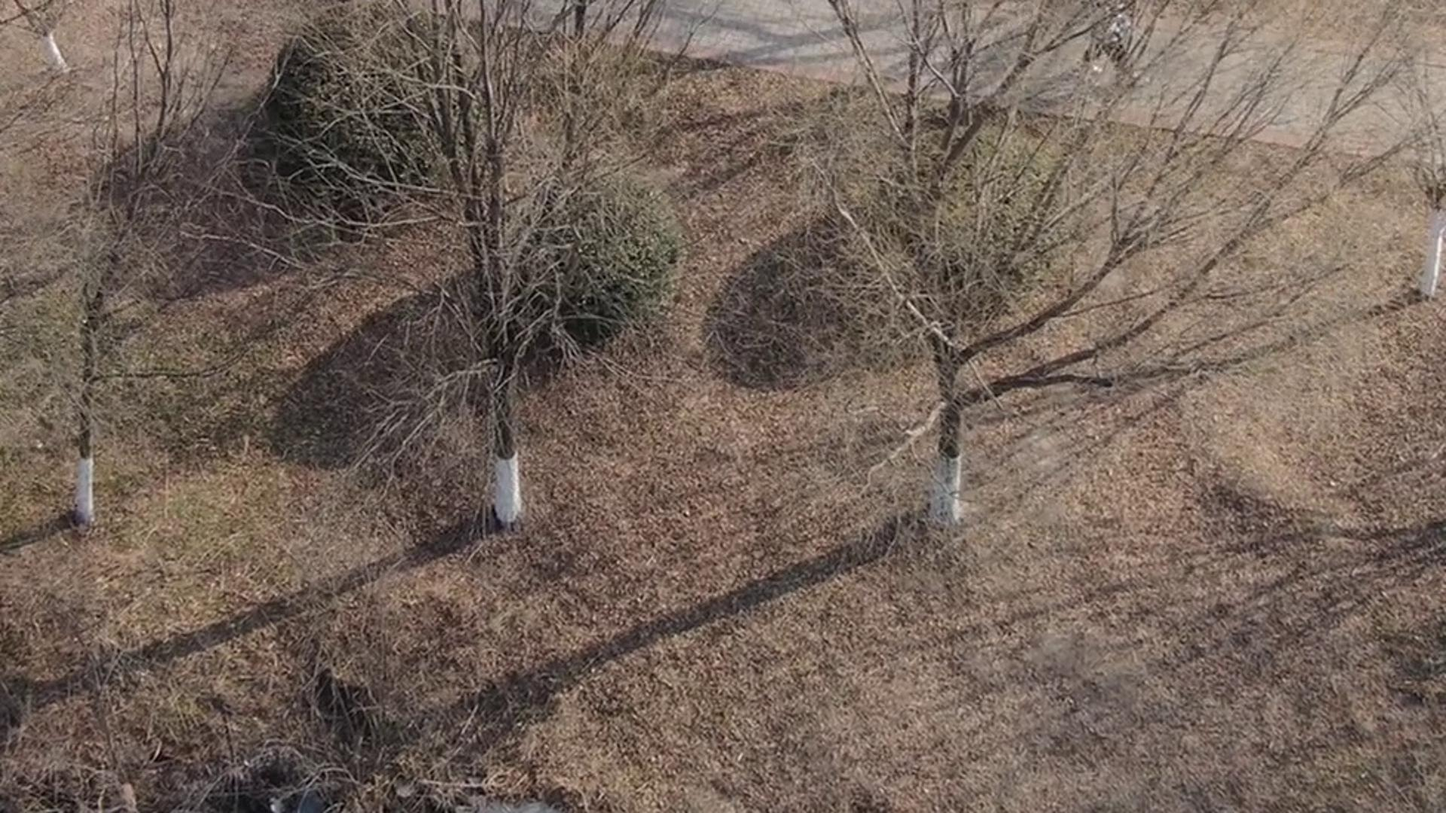human: (1060, 4, 1127, 110)
